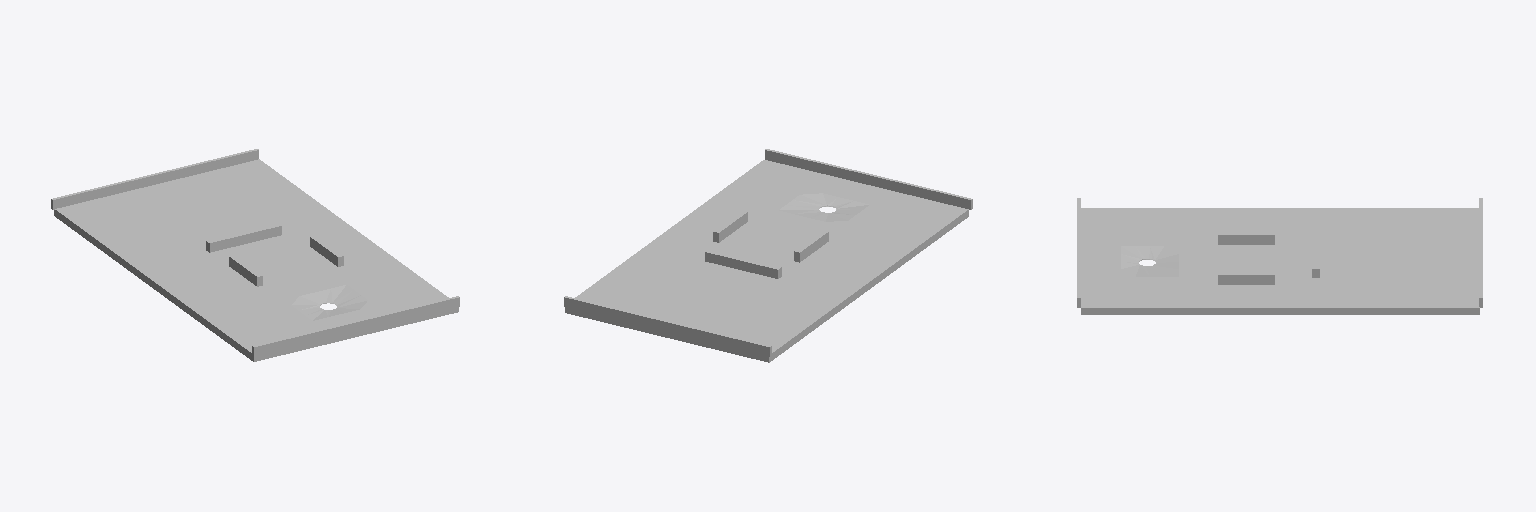
Rendered from 003_Mesa_lava_extended.obj.
The picture shows the model from 3 angles: view 1: azimuth 30°, elevation 25°; view 2: azimuth 150°, elevation 25°; view 3: azimuth 270°, elevation 25°; orthographic projection.
Parts seen in each view (by area): view 1: Mesa_lava; view 2: Mesa_lava; view 3: Mesa_lava.
Boxes of the visible parts, x1=… form: Mesa_lava: x1=51, y1=149, x2=459, y2=361; Mesa_lava: x1=564, y1=149, x2=972, y2=362; Mesa_lava: x1=1077, y1=198, x2=1482, y2=314.
Size of the model in its own units: 19.94 by 1.63 by 33.94.